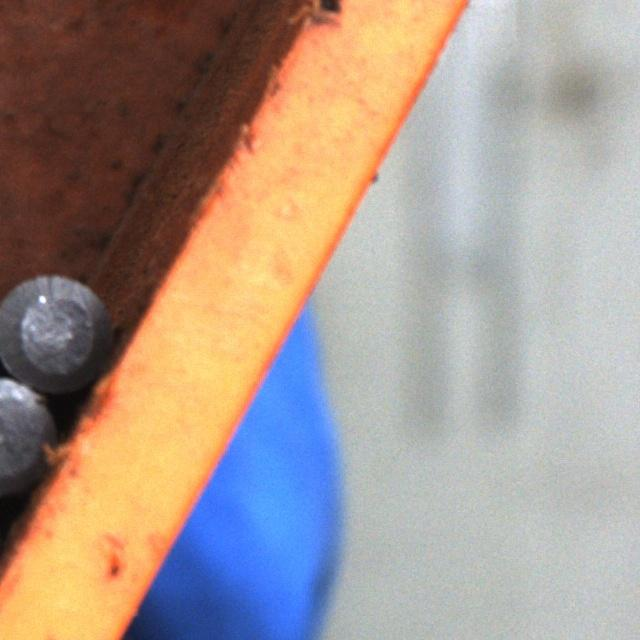tool: (0, 268, 108, 392), (0, 373, 55, 497)
